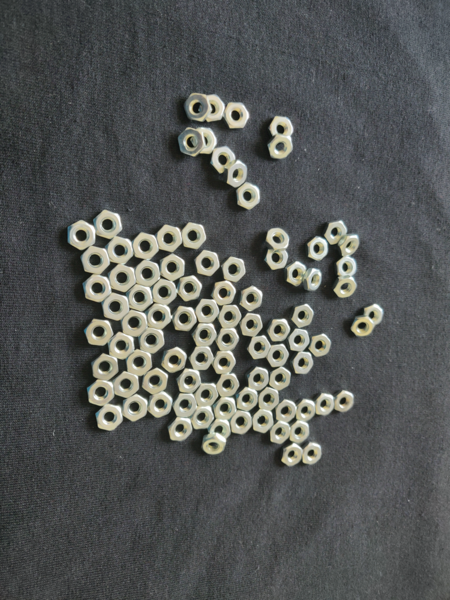nut: (65, 220, 97, 252), (95, 207, 123, 239), (120, 309, 149, 338), (156, 224, 183, 255), (132, 232, 159, 263), (183, 93, 212, 121), (233, 183, 261, 212), (80, 248, 110, 275), (110, 263, 136, 294), (211, 143, 236, 175), (178, 129, 207, 156), (223, 99, 250, 128), (125, 350, 153, 377), (162, 251, 186, 282), (81, 276, 108, 303), (192, 126, 218, 154), (264, 248, 292, 274), (177, 274, 203, 302), (141, 368, 169, 394), (181, 220, 206, 249), (108, 235, 132, 265), (108, 333, 135, 359), (92, 355, 119, 381), (227, 411, 254, 437), (135, 260, 160, 288), (84, 320, 113, 344), (97, 405, 123, 431), (147, 392, 173, 418), (195, 251, 220, 278), (162, 347, 189, 372), (127, 285, 152, 312), (88, 381, 115, 406), (269, 366, 295, 391), (172, 306, 197, 332), (153, 281, 178, 307), (103, 295, 129, 320), (188, 346, 214, 371), (224, 160, 248, 187), (267, 115, 294, 139), (334, 255, 361, 279), (237, 287, 264, 311), (193, 323, 220, 347), (203, 95, 225, 124), (331, 279, 360, 301), (265, 137, 295, 158), (221, 256, 245, 282), (218, 305, 244, 329), (171, 394, 197, 418), (262, 228, 289, 251), (285, 262, 308, 289), (338, 232, 362, 257), (292, 350, 316, 375), (274, 399, 298, 424), (212, 281, 237, 305), (216, 328, 241, 352), (146, 306, 171, 330), (124, 398, 149, 422), (191, 406, 216, 430), (291, 305, 317, 328), (265, 345, 291, 368), (325, 222, 349, 246), (215, 374, 239, 398), (287, 330, 312, 353), (280, 441, 303, 466), (239, 314, 264, 337), (196, 299, 221, 322), (140, 330, 165, 353), (177, 369, 202, 392), (213, 398, 238, 421), (248, 335, 270, 361), (256, 389, 282, 411), (352, 317, 376, 340), (267, 320, 291, 343), (335, 390, 357, 415), (115, 374, 137, 399), (168, 419, 193, 441), (245, 370, 271, 391), (164, 348, 187, 371), (306, 237, 328, 261), (310, 335, 332, 359), (195, 383, 219, 405), (211, 353, 236, 374), (270, 422, 292, 445), (253, 410, 275, 433), (305, 270, 327, 292), (362, 305, 384, 327), (290, 421, 313, 442), (305, 268, 324, 293), (315, 392, 334, 417), (201, 436, 226, 455), (296, 399, 317, 421), (302, 444, 323, 465), (208, 420, 230, 440)
